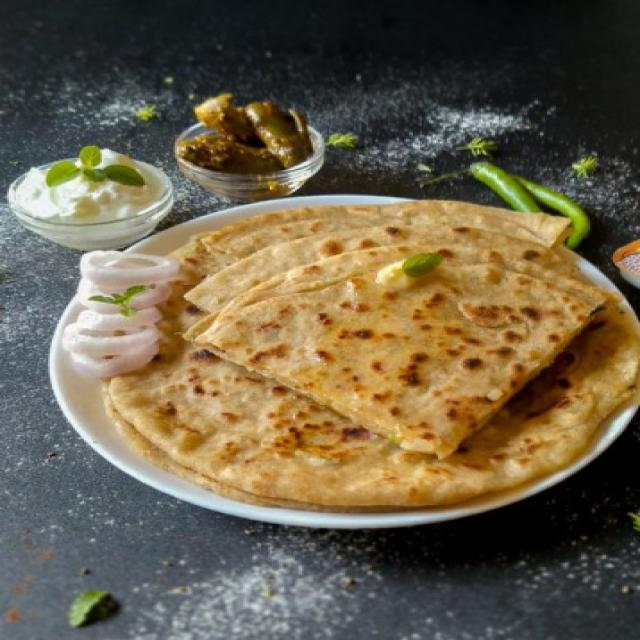CHAPATHI: (103, 201, 638, 512)
CURD: (13, 152, 162, 221)
CURRY: (181, 91, 314, 173)
